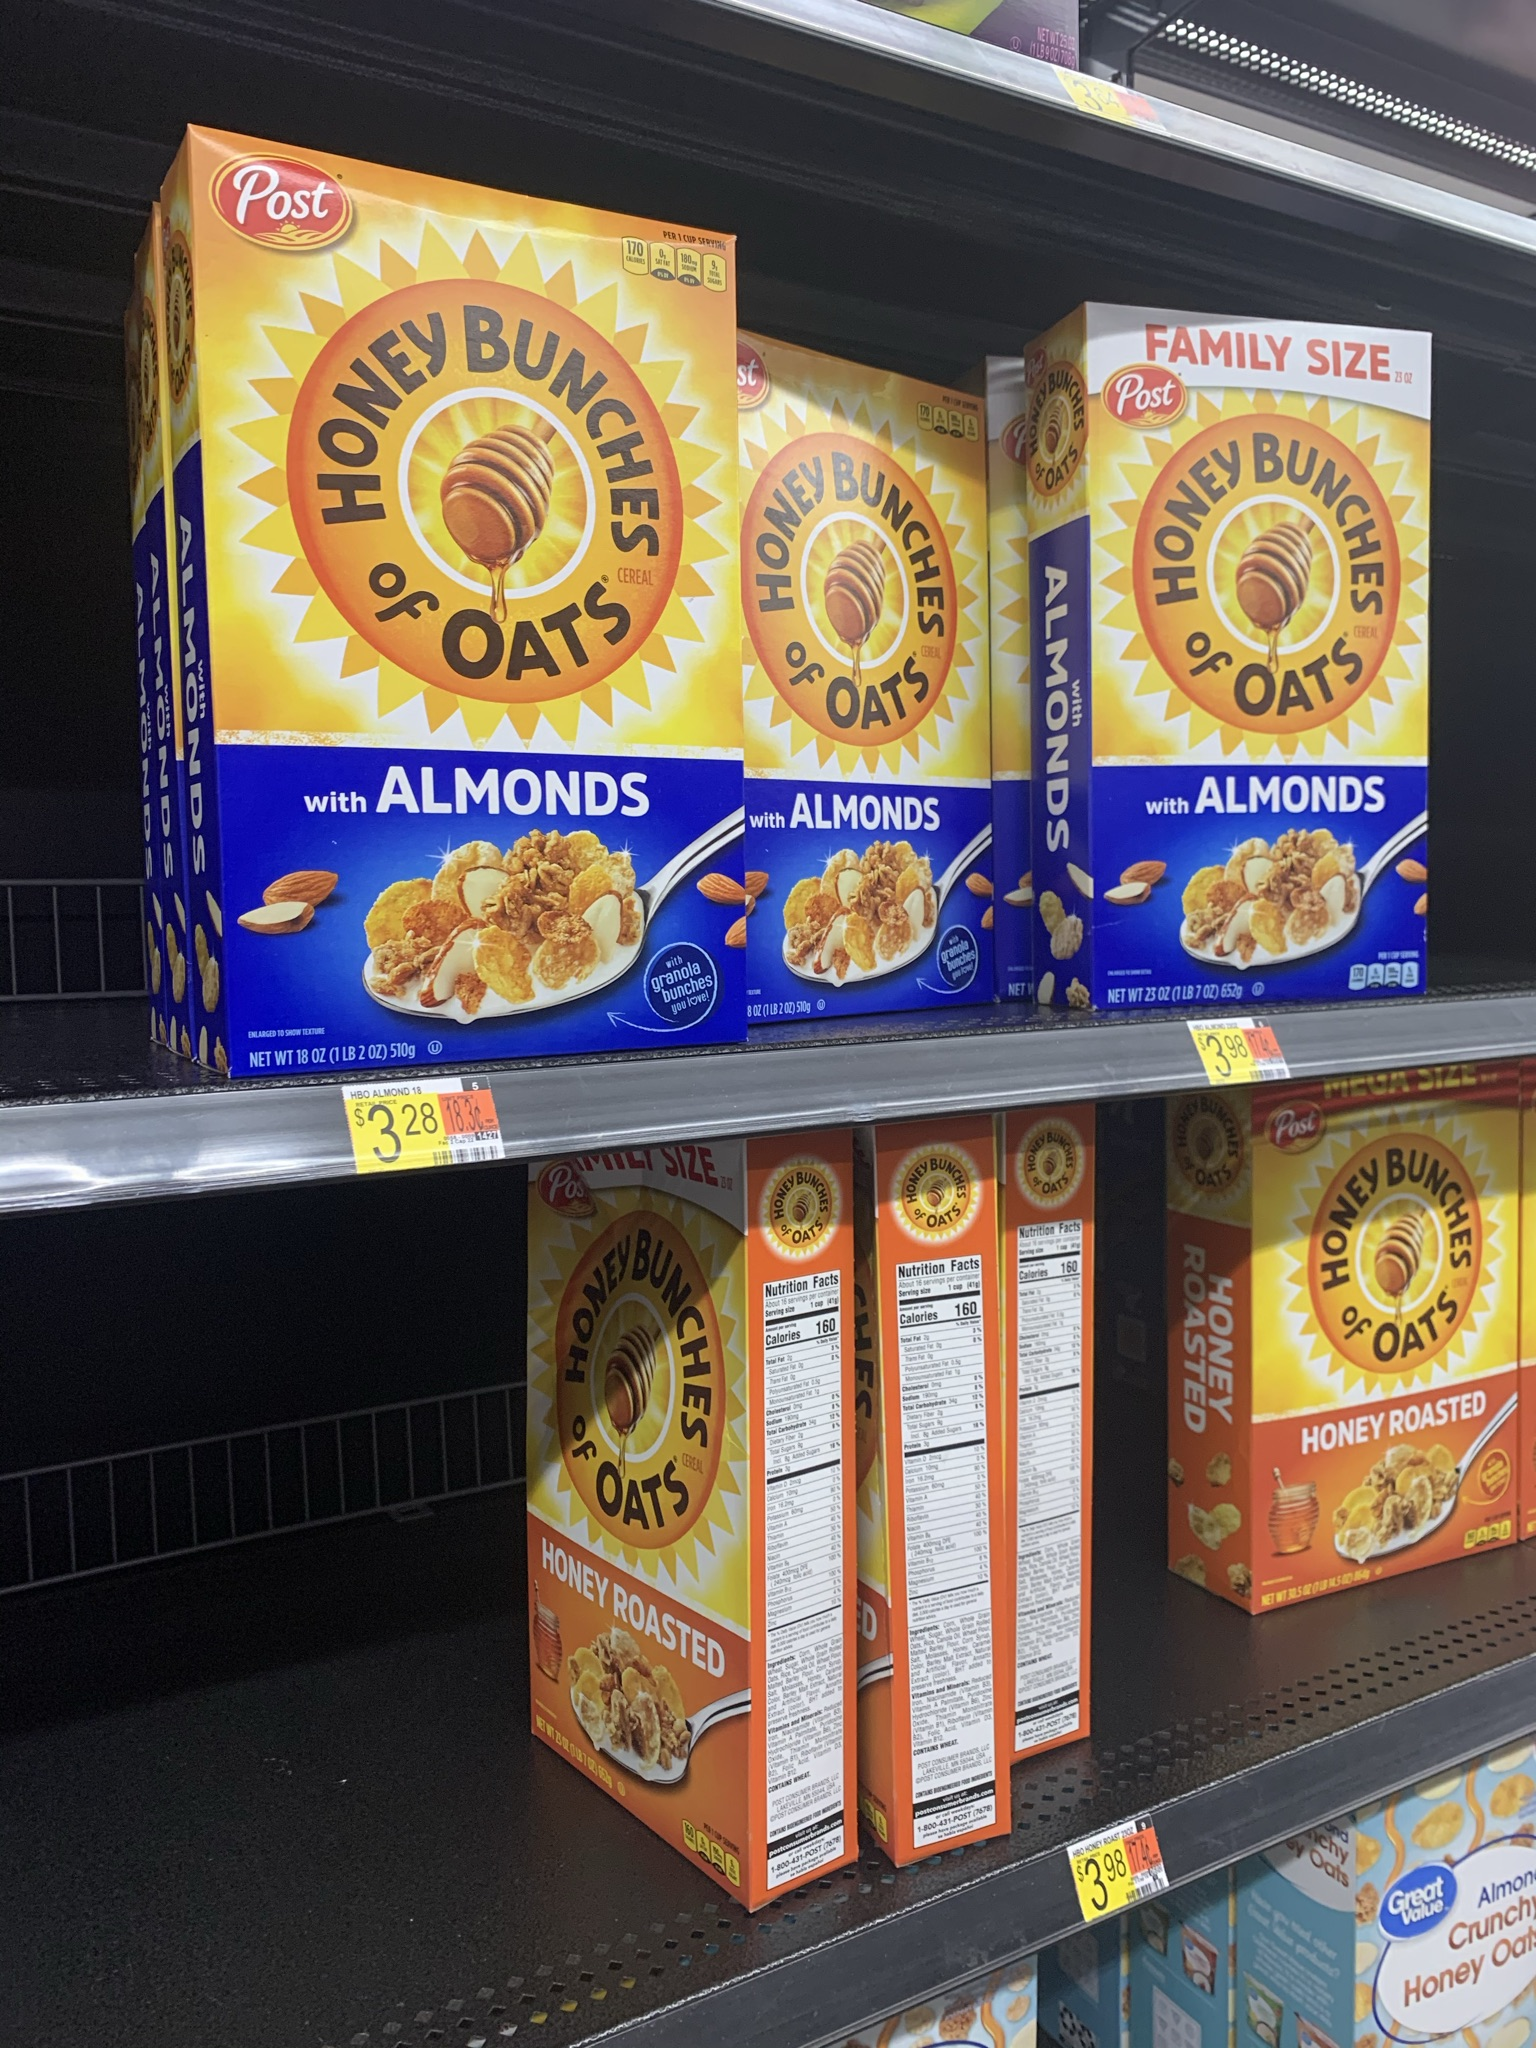Cereal: (1091, 316, 1433, 992)
